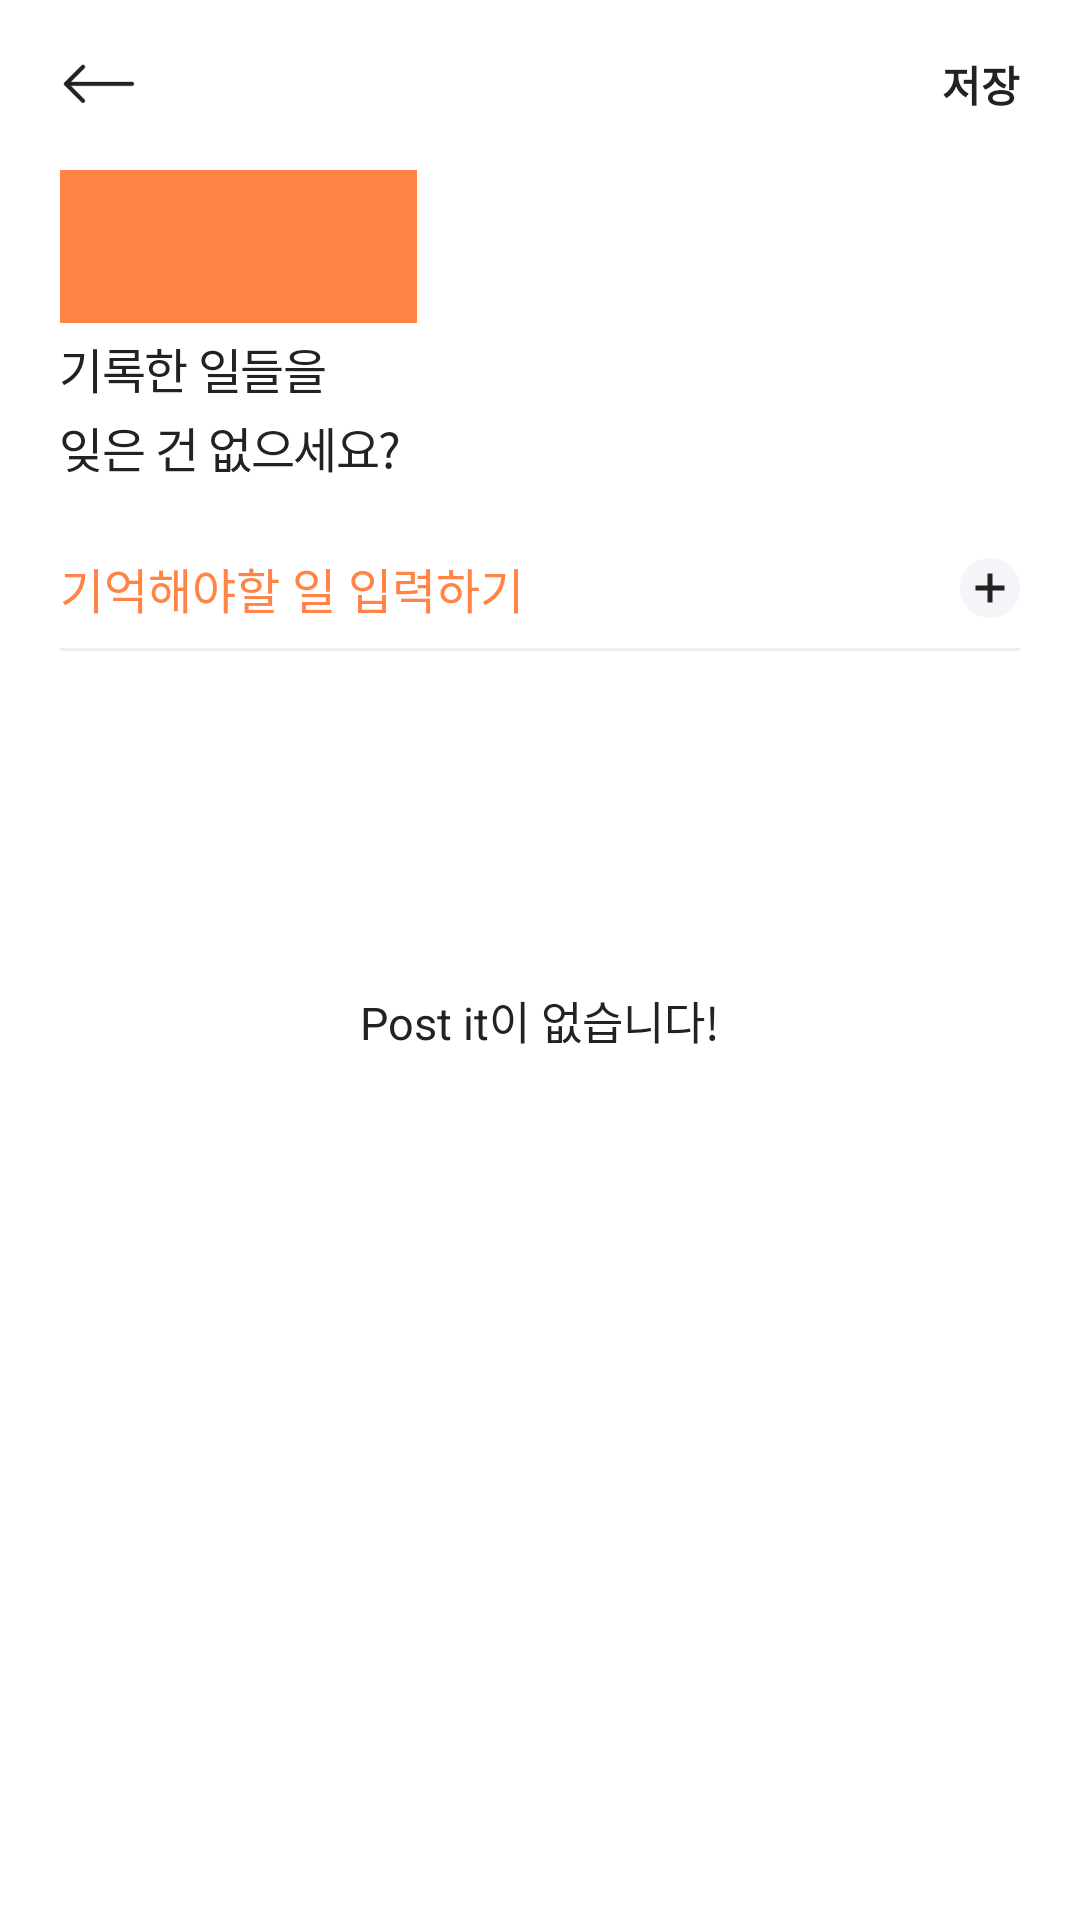

Locate icon controls on the screen. Image size 1080x1920, boxes as [x1=x1, y1=y1, x2=x2, y2=y2].
arrow left: [x1=63, y1=64, x2=135, y2=103]
circle add: [x1=960, y1=558, x2=1020, y2=618]
